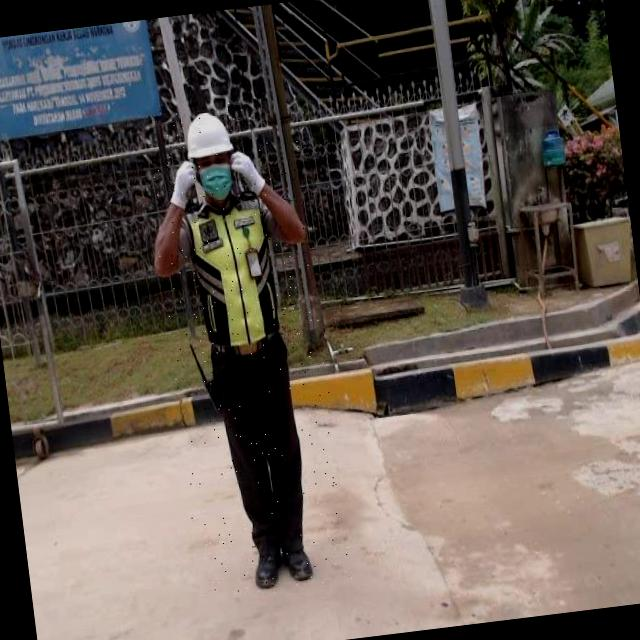boots: (276, 536, 316, 588), (251, 542, 284, 590)
gloves: (228, 146, 268, 199), (168, 161, 197, 208)
vest: (180, 194, 289, 357)
